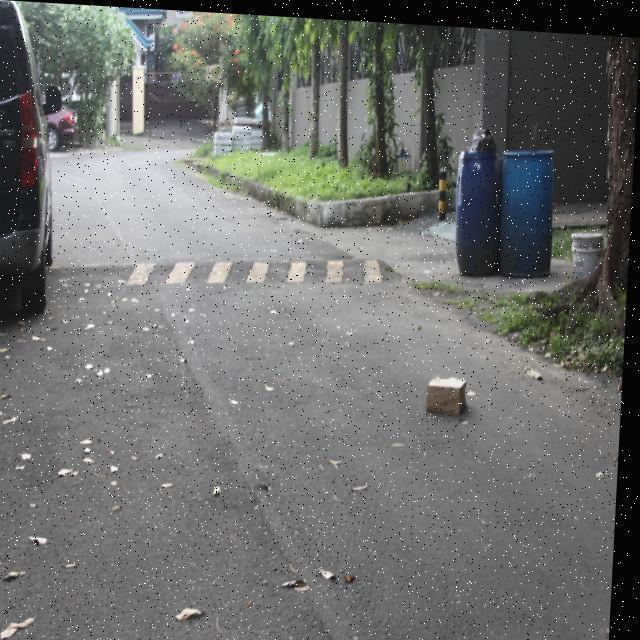Paper_Bag: (430, 369, 472, 409)
